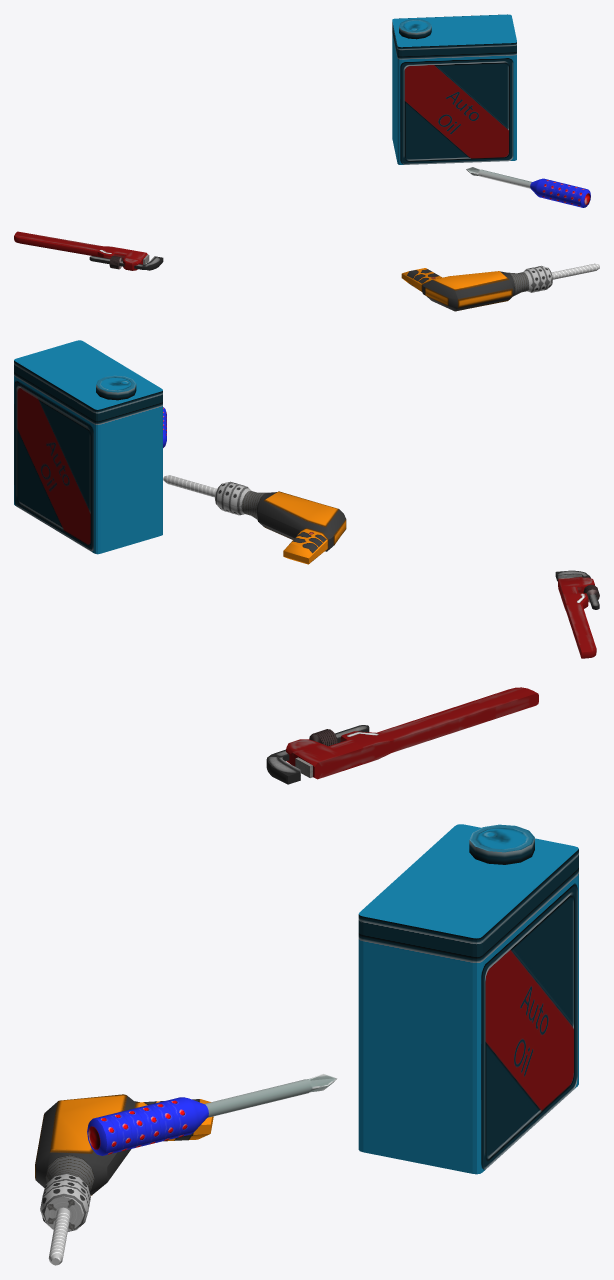
File: env.FBX
3 renders of one model, top to bottom at view 1: azimuth 30°, elevation 25°; view 2: azimuth 150°, elevation 25°; view 3: azimuth 270°, elevation 25°, orthographic. The views are drawn at different scales.
Visible parts, largest first — view 1: Box009, Box006, Box007, Cylinder005; view 2: Box009, Box006, Box007; view 3: Box009, Box006, Box007, Cylinder005.
Boxes of the visible parts, bbox=[...] form: Box009: bbox=[392, 14, 516, 164]; Box006: bbox=[401, 263, 599, 311]; Box007: bbox=[14, 231, 163, 270]; Cylinder005: bbox=[466, 167, 590, 207]; Box009: bbox=[14, 340, 162, 554]; Box006: bbox=[163, 475, 346, 564]; Box007: bbox=[555, 570, 599, 658]; Box009: bbox=[358, 824, 578, 1174]; Box006: bbox=[35, 1094, 213, 1265]; Box007: bbox=[266, 687, 538, 784]; Cylinder005: bbox=[87, 1074, 336, 1155].
Bounding box in the file's own units: 95.62 × 35.35 × 46.37.
